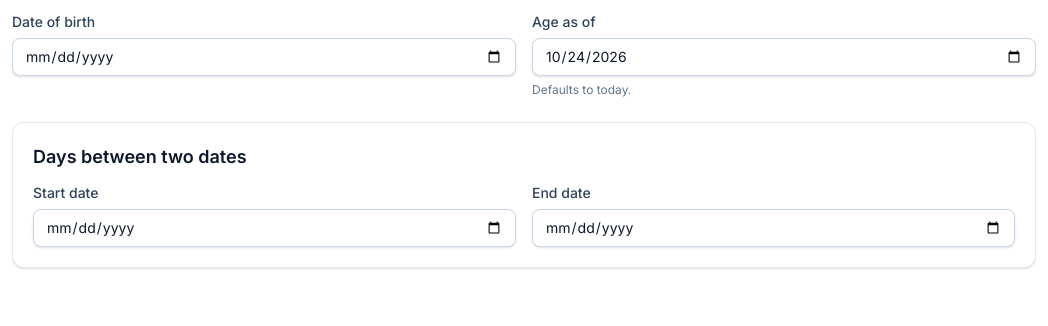
Test: AgeCalculator › computes days between two dates
In the date field labelled "Start date": (274, 228) [33,209,516,247], type "2024-01-01"
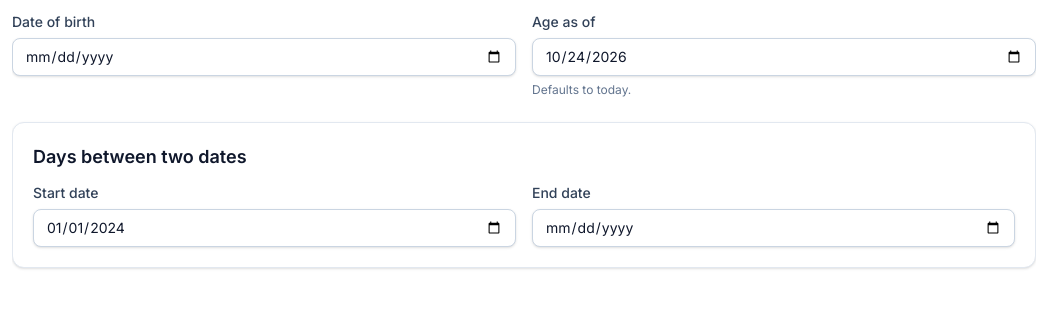
In the date field labelled "End date": (774, 228) [532,209,1015,247], type "2024-01-11"
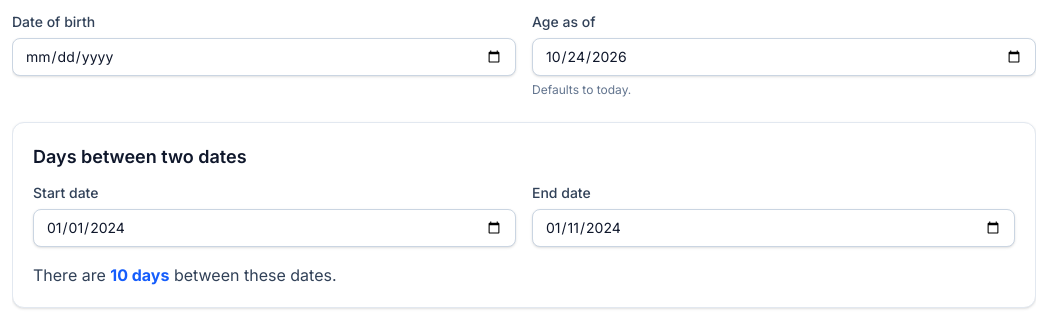
Check: the text "10 days" is shown, box [110,265,170,285]
